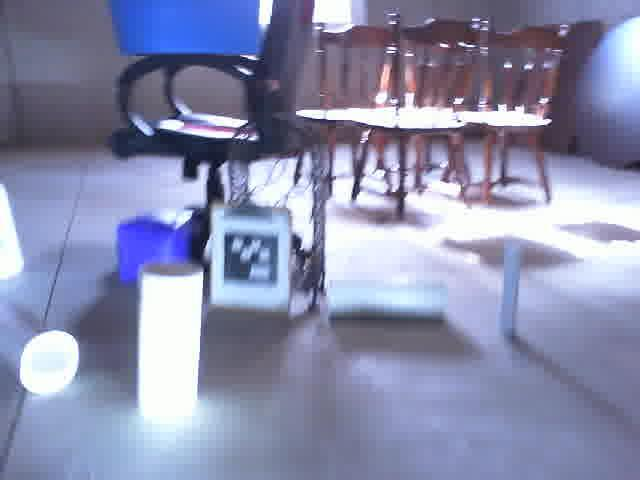coral: (138, 261, 203, 421), (0, 288, 79, 395), (327, 277, 446, 328)
